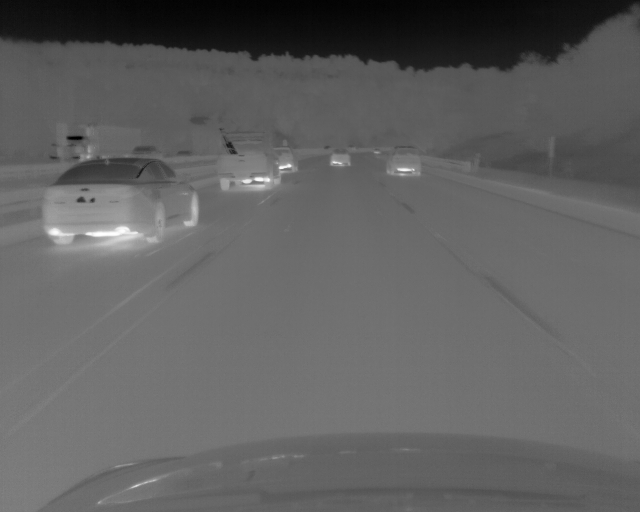car: (42, 160, 201, 244), (216, 120, 281, 190), (57, 127, 142, 158), (388, 145, 423, 177), (275, 146, 296, 171), (329, 145, 351, 166), (130, 145, 160, 158), (374, 149, 383, 154)
